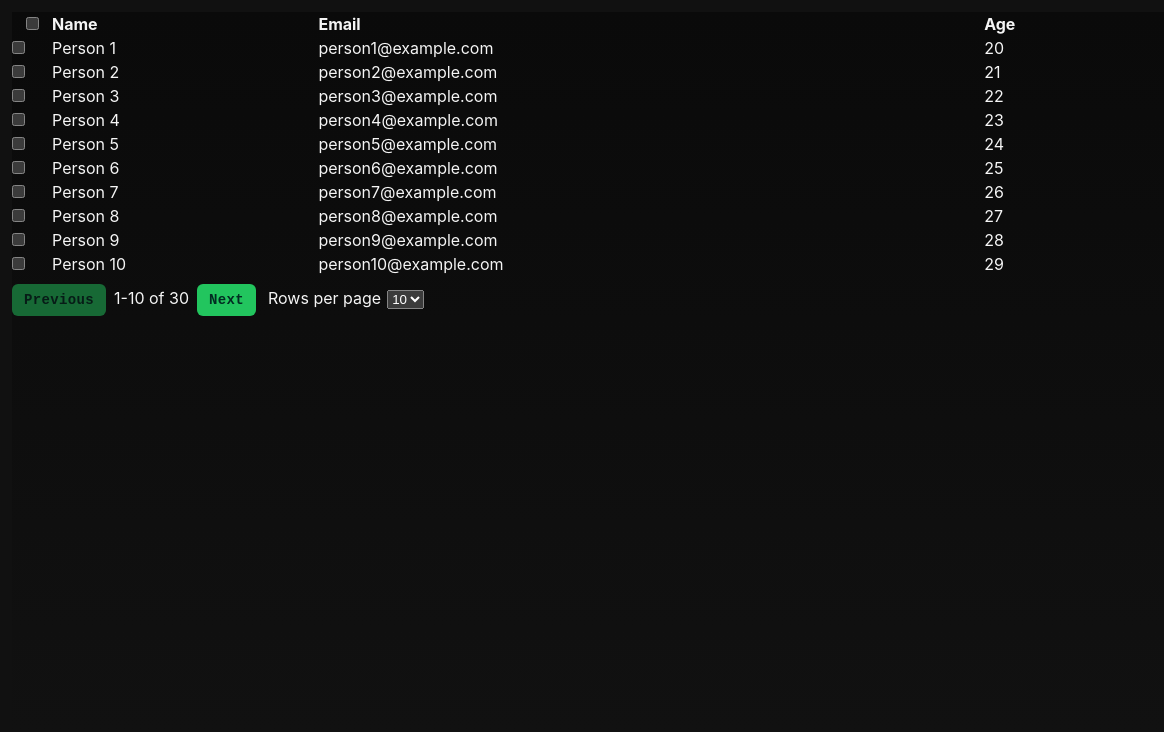
Test: DataTable - Integration Scenarios › handles all features together: sorting + pagination + selection
The image size is (1164, 732).
Note: Sort by name
Click the column heading "Name".
click(75, 24)  # box left=52, top=12, right=318, bottom=36
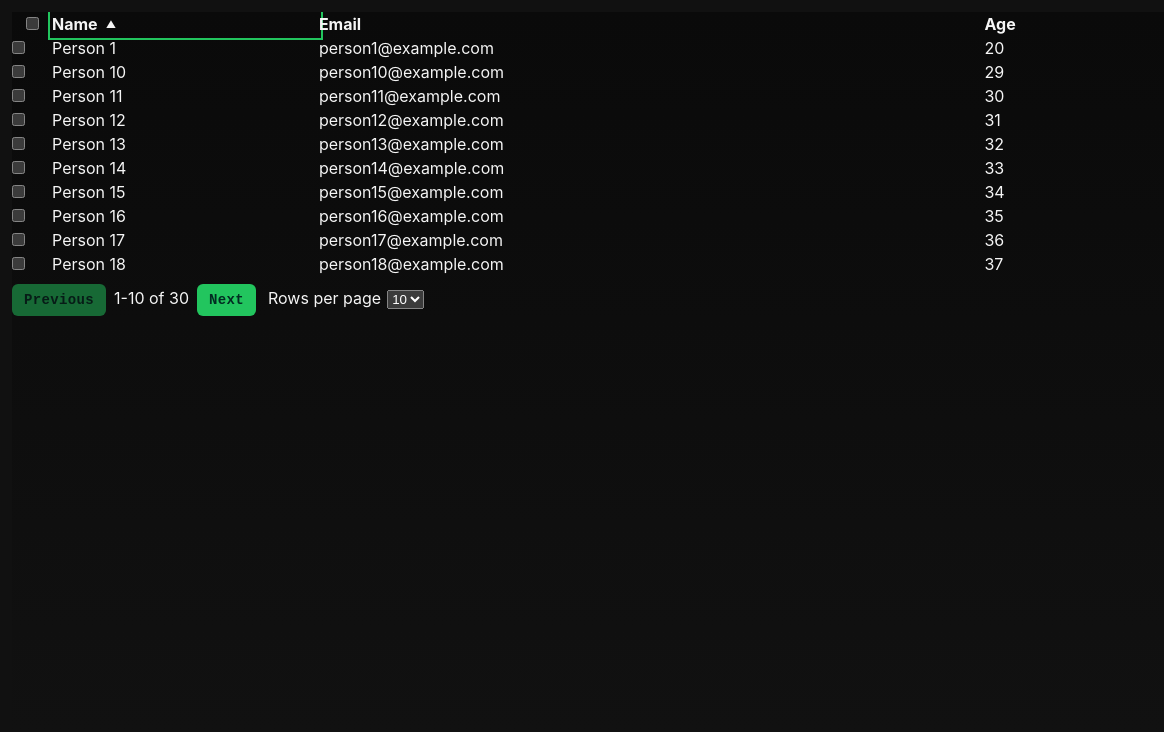
expect the column heading "Name ▲" has attribute aria-sort="ascending": met, box left=52, top=12, right=319, bottom=36
Note: Select a row
Click the checkbox named "Select row 1".
click(18, 48)  # box left=12, top=41, right=25, bottom=54
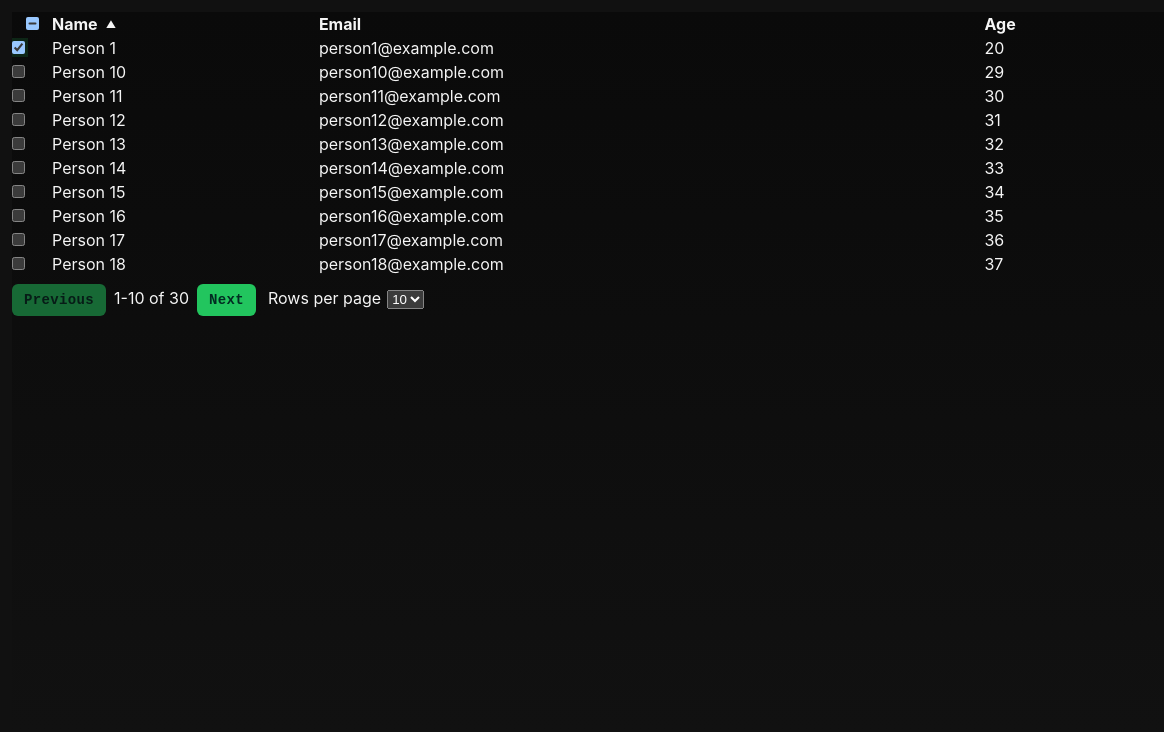
Note: Change page size
Select "25" in the dropdown labelled "Rows per page" at (406, 300), box left=387, top=290, right=424, bottom=309
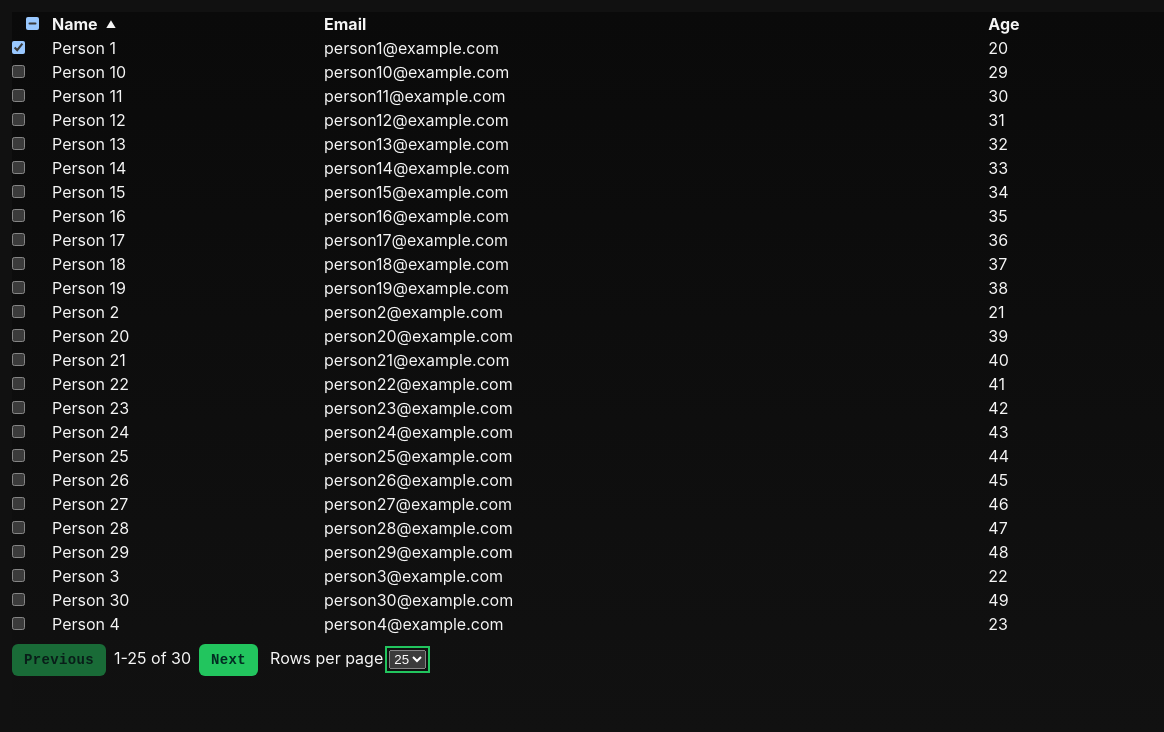
expect the text "1-25 of 30" is shown: met, box left=114, top=648, right=191, bottom=668
